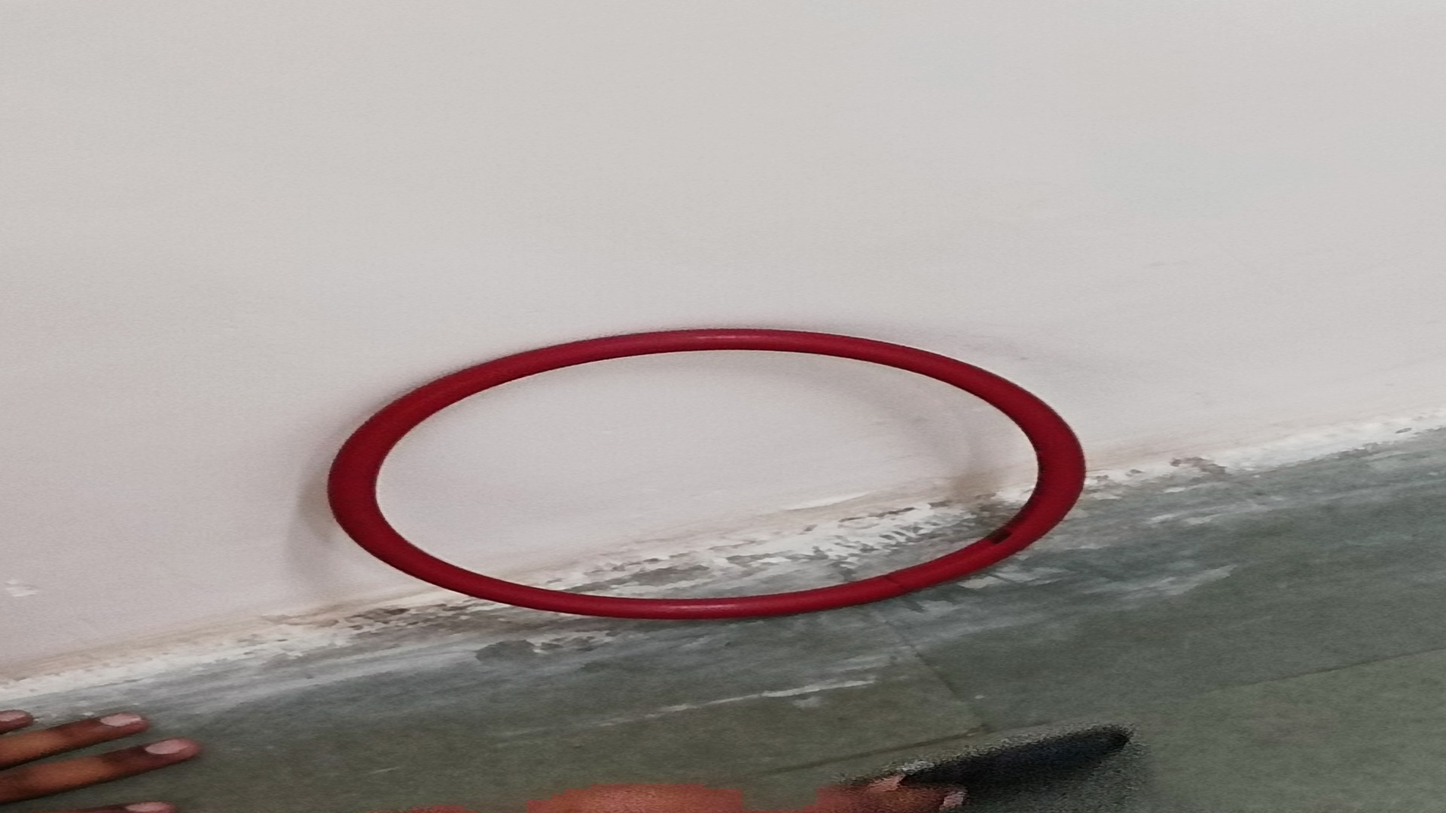Red ring: (325, 330, 1085, 617)
